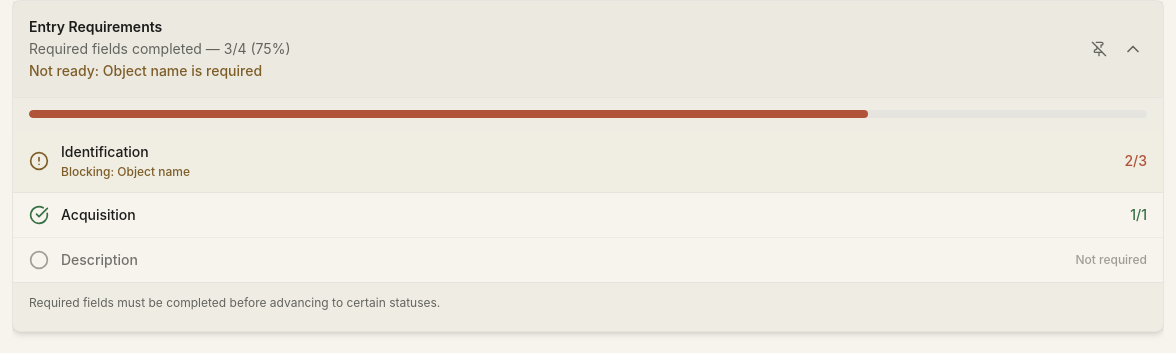
Scenario: RequirementsPanel › expand/collapse › collapses when chevron is clicked again
The width and height of the screenshot is (1176, 353).
Click the button named "Collapse requirements": (1133, 49) [1119, 35, 1147, 63]
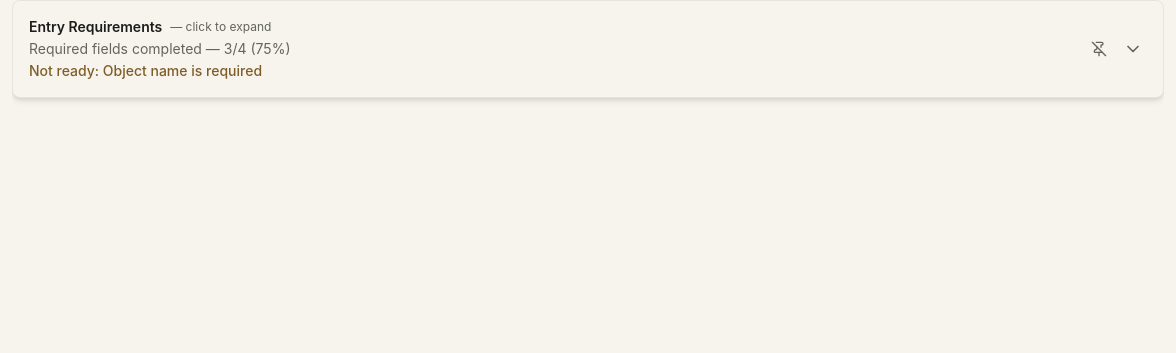
Now the button "Identification" is gone
